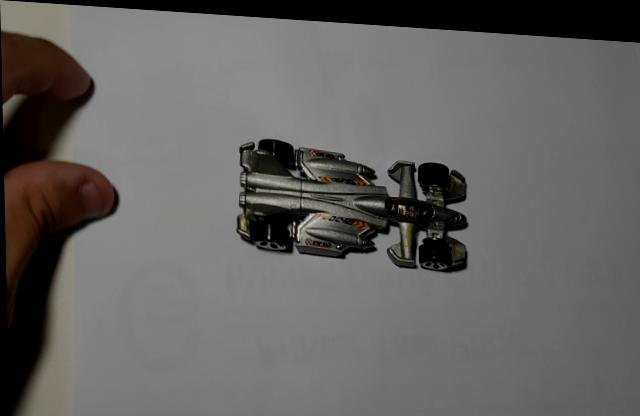05_DC121: (235, 136, 469, 268)
